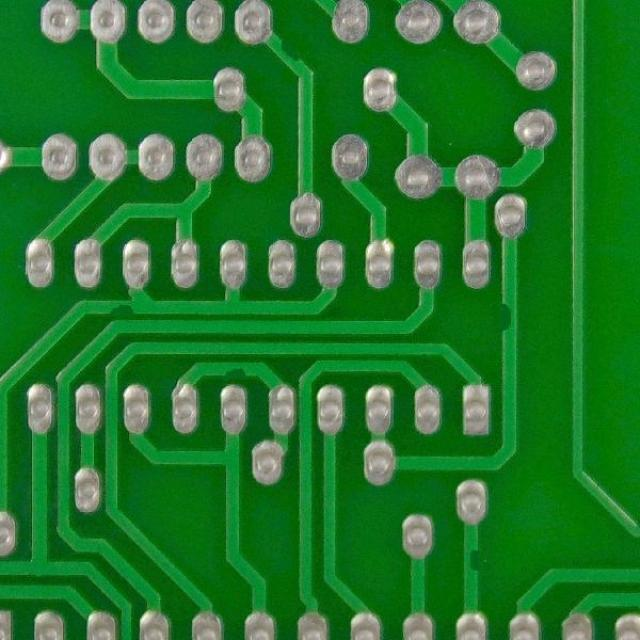mouse_bite: (273, 38, 308, 70), (497, 298, 521, 339), (102, 295, 136, 320), (460, 544, 484, 577), (218, 359, 250, 382)
